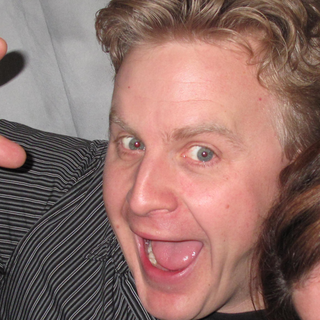eye: (180, 142, 227, 166), (111, 131, 150, 158)
